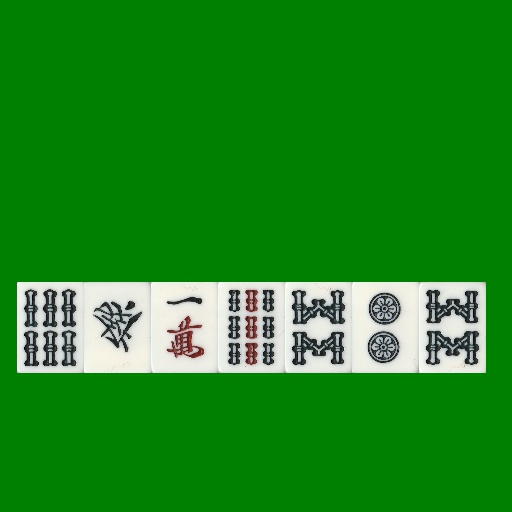1m: (151, 282, 218, 373)
2p: (352, 282, 419, 373)
6s: (17, 282, 84, 373)
8s: (285, 282, 352, 373), (419, 282, 486, 373)
9s: (218, 282, 285, 373)
hatsu: (84, 282, 151, 373)
